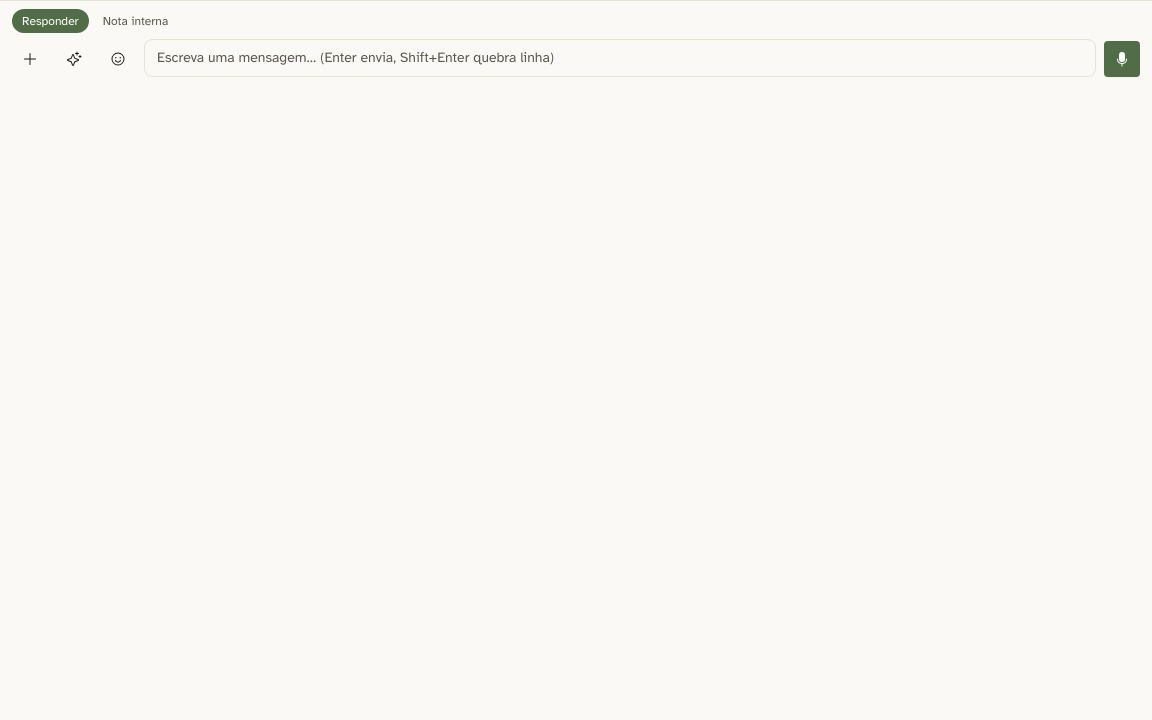
Test: Composer + anexos › botão Anexar abre o menu com as duas opções
Click the button named "anexar" at (30, 59), box left=12, top=41, right=48, bottom=77
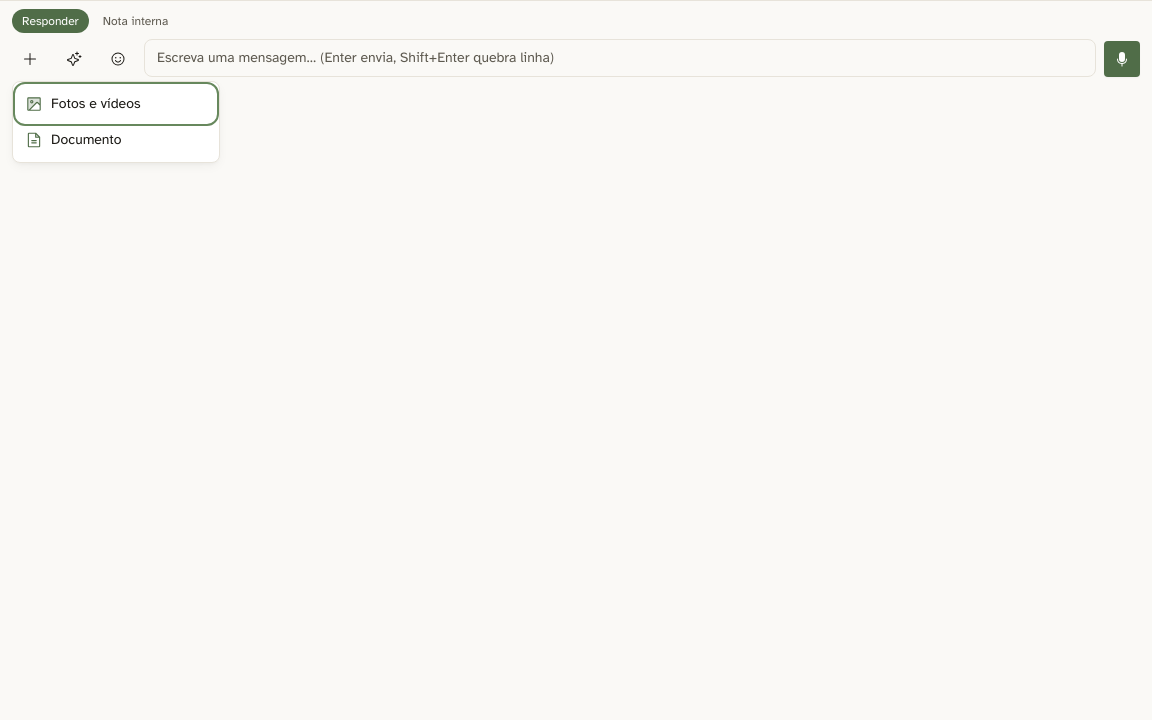
Now the button "Fotos e vídeos" is shown, box left=17, top=86, right=215, bottom=122
Now the button "Documento" is shown, box left=17, top=122, right=215, bottom=158
